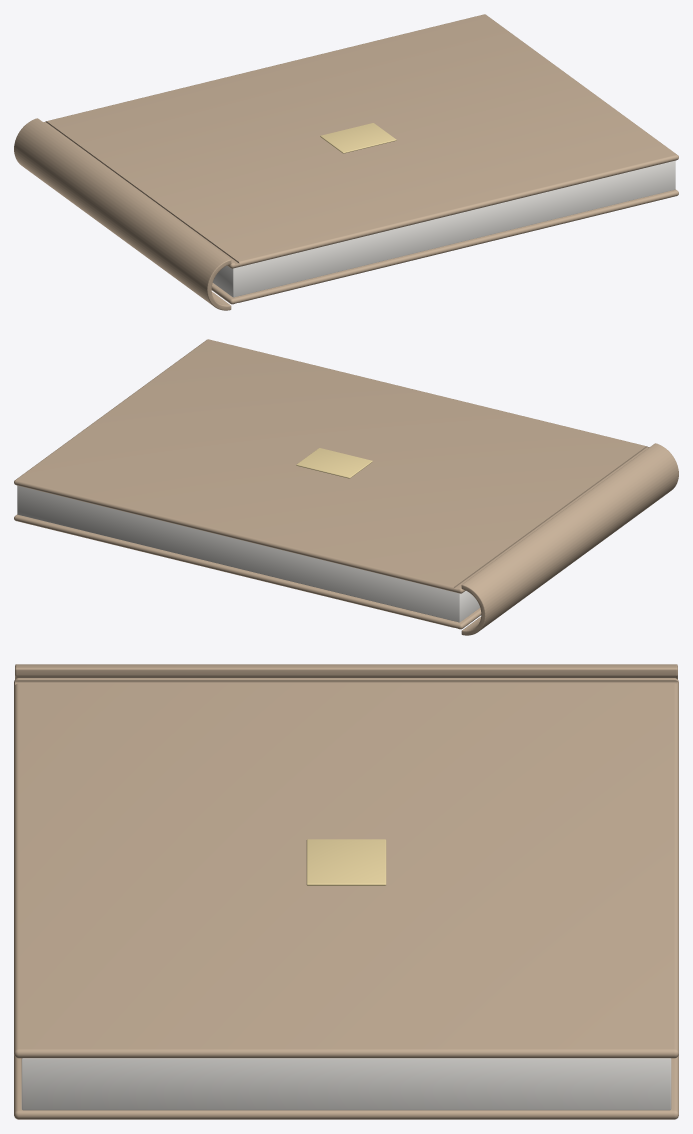
Rendered from plate--landscape.glb.
The picture shows the model from 3 angles, top to bottom: view 1: azimuth 30°, elevation 25°; view 2: azimuth 150°, elevation 25°; view 3: azimuth 270°, elevation 25°; orthographic projection. The views are drawn at different scales.
Parts seen in each view (by area): view 1: CoverFront, Pages, Spine, CoverBack, Plate; view 2: CoverFront, Pages, Spine, CoverBack, Plate; view 3: CoverFront, Pages, Spine, CoverBack, Plate.
Part boxes in pixels (left/top/right/bottom): CoverFront: left=43, top=14, right=678, bottom=268; Pages: left=213, top=160, right=675, bottom=297; Spine: left=14, top=118, right=231, bottom=310; CoverBack: left=211, top=189, right=678, bottom=304; Plate: left=320, top=123, right=396, bottom=153; CoverFront: left=14, top=339, right=649, bottom=593; Pages: left=17, top=485, right=479, bottom=622; Spine: left=461, top=443, right=678, bottom=635; CoverBack: left=14, top=514, right=481, bottom=629; Plate: left=296, top=448, right=372, bottom=478; CoverFront: left=14, top=678, right=678, bottom=1058; Pages: left=21, top=1058, right=671, bottom=1110; Spine: left=15, top=664, right=677, bottom=679; CoverBack: left=14, top=1055, right=678, bottom=1119; Plate: left=306, top=839, right=386, bottom=885.
Size of the model in its own units: 0.4208 by 0.043 by 0.3.
